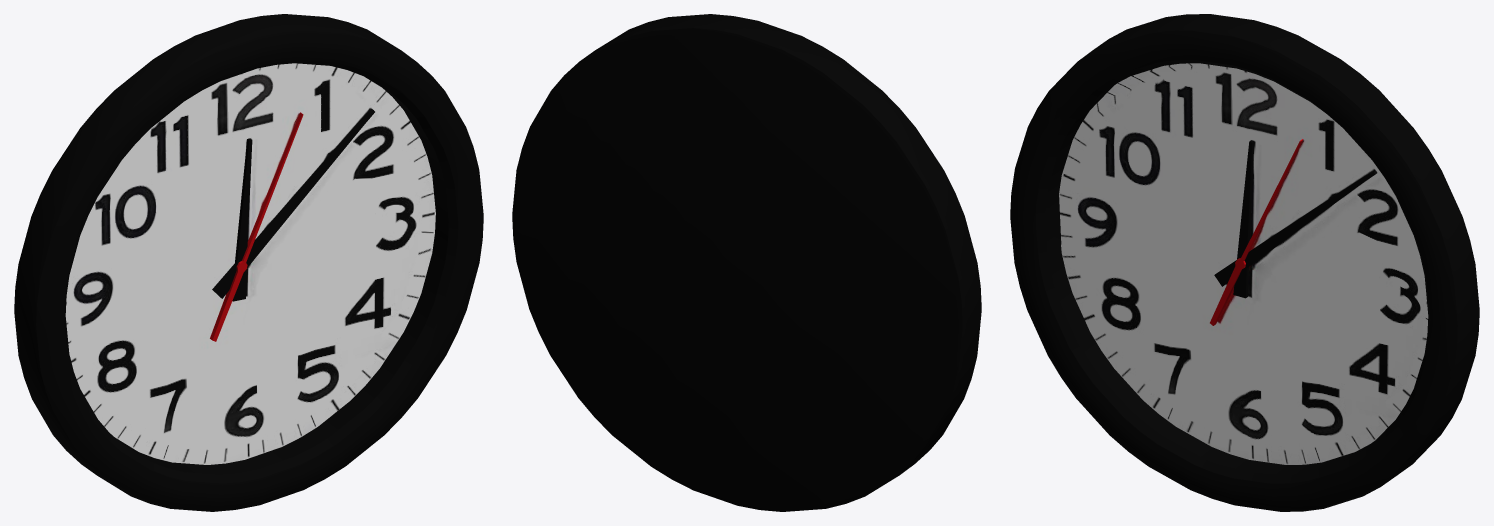
The model's file is clock.fbx.
The picture shows the model from 3 angles, left to right: view 1: azimuth 30°, elevation 25°; view 2: azimuth 150°, elevation 25°; view 3: azimuth 330°, elevation 25°; orthographic projection.
Parts seen in each view (by area): view 1: Plane.002; view 2: Plane.002; view 3: Plane.002.
Part boxes in pixels (<box>): Plane.002: <box>14,14,483,511</box>; Plane.002: <box>512,14,981,511</box>; Plane.002: <box>1010,14,1479,511</box>.
Bounding box in the file's own units: 192 × 192 × 17.39.
4 materials, 1 textured.
